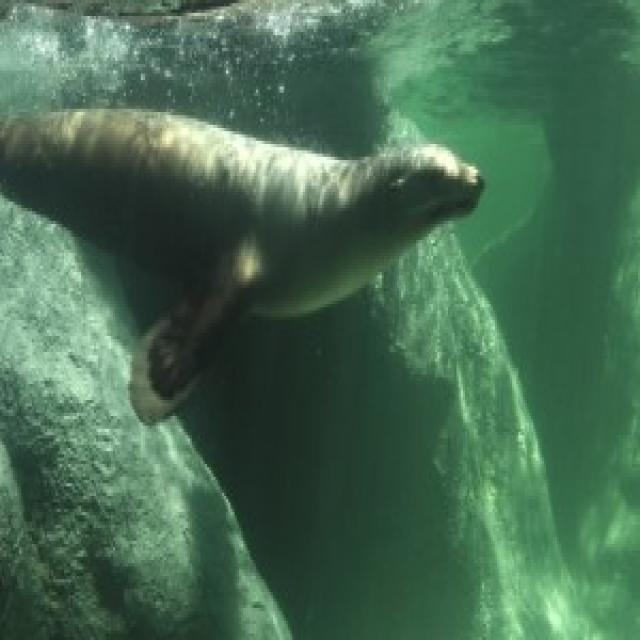Seal: (27, 100, 490, 393)
